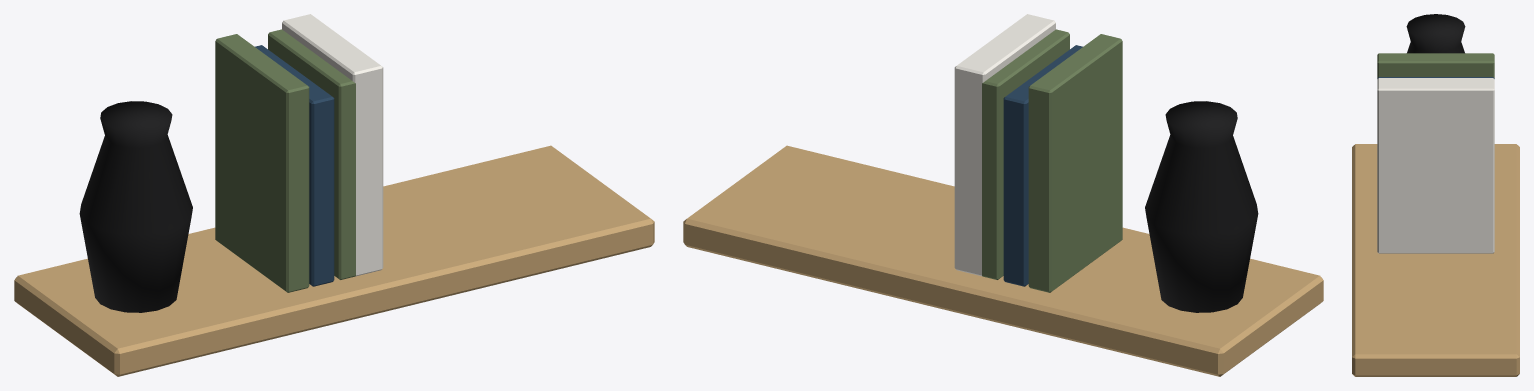
The model's file is i_wshelf_0.glb.
3 views of the same model, side by side, from view 1: azimuth 30°, elevation 25°; view 2: azimuth 150°, elevation 25°; view 3: azimuth 270°, elevation 25° (orthographic). The views are drawn at different scales.
Visible parts, largest first — view 1: o, o.002, o.001, o.005, o.004, o.003; view 2: o, o.002, o.001, o.005, o.004, o.003; view 3: o, o.005, o.002, o.001.
Boxes of the visible parts, box(x1,y1,x2,y2) form: o: box(14, 145, 654, 376); o.002: box(215, 34, 309, 292); o.001: box(79, 101, 192, 312); o.005: box(282, 14, 383, 276); o.004: box(268, 29, 355, 279); o.003: box(255, 45, 334, 286); o: box(683, 145, 1323, 376); o.002: box(1028, 34, 1122, 292); o.001: box(1145, 101, 1258, 312); o.005: box(954, 14, 1055, 276); o.004: box(982, 29, 1069, 279); o.003: box(1003, 45, 1082, 286); o: box(1352, 144, 1519, 376); o.005: box(1377, 78, 1494, 253); o.002: box(1377, 53, 1494, 77); o.001: box(1406, 14, 1465, 53).
Size of the model in its own units: 0.6 by 0.2469 by 0.2.
